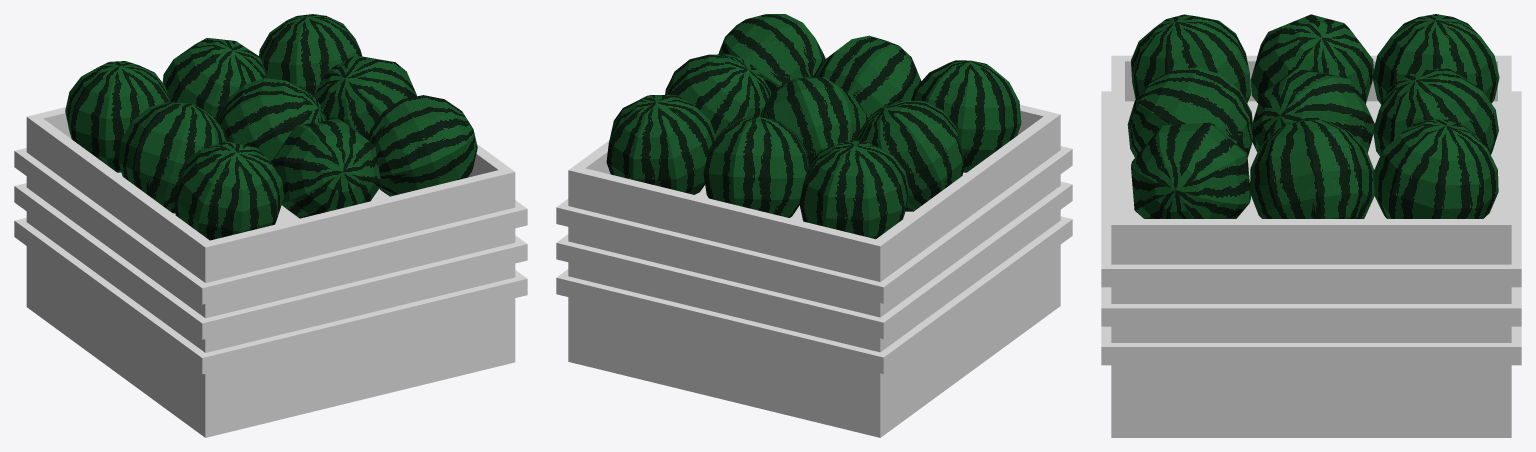
The model's file is FoodBoxMelonUnity.fbx.
3 renders of one model, left to right at view 1: azimuth 30°, elevation 25°; view 2: azimuth 150°, elevation 25°; view 3: azimuth 270°, elevation 25°, orthographic. The views are drawn at different scales.
Visible parts, largest first — view 1: Cube; view 2: Cube; view 3: Cube.
Boxes of the visible parts, <box> form: Cube: <box>14,14,527,437</box>; Cube: <box>556,14,1072,437</box>; Cube: <box>1101,14,1521,437</box>.
Bounding box in the file's own units: 210 × 155 × 210.
